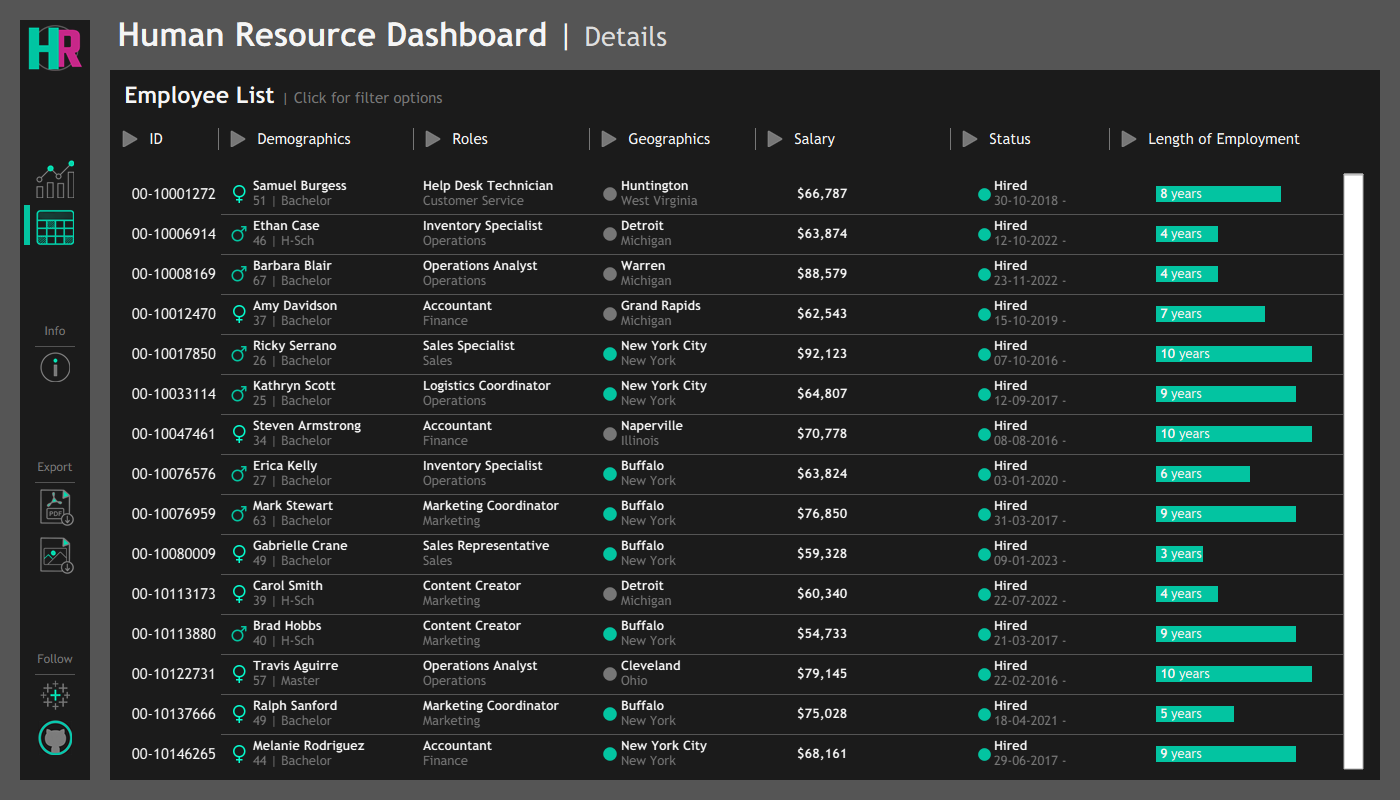

Layout of this report page (visuals, bound fields, positions):
{"tool":"tableau","page":{"name":"HR|Details","canvas":[1400,800],"ordinal":0},"visuals":[{"type":"text","box":[110,0,677,70]},{"type":"blank","box":[787,0,593,70]},{"type":"image","param":"Image/Logo.png","box":[20,20,70,55]},{"type":"text","box":[117,77,1256,41]},{"type":"blank","box":[30,85,50,75]},{"type":"filter","title":"Detailed","param":"[federated.16gnvfj1b3mwus125edxu1k4nizk].[none:Employee_ID:nk]","box":[116,118,95,53]},{"type":"dashboard-object","box":[117,118,25,42]},{"type":"text","box":[142,118,70,42]},{"type":"blank","box":[212,118,13,42]},{"type":"dashboard-object","box":[225,118,25,42]},{"type":"text","box":[250,118,157,42]},{"type":"blank","box":[407,118,13,42]},{"type":"dashboard-object","box":[420,118,25,42]},{"type":"text","box":[445,118,138,42]},{"type":"blank","box":[583,118,13,42]},{"type":"dashboard-object","box":[596,118,25,42]},{"type":"text","box":[621,118,128,42]},{"type":"blank","box":[749,118,13,42]},{"type":"dashboard-object","box":[762,118,25,42]},{"type":"text","box":[787,118,157,42]},{"type":"blank","box":[944,118,13,42]},{"type":"dashboard-object","box":[957,118,25,42]},{"type":"text","box":[982,118,121,42]},{"type":"blank","box":[1103,118,13,42]},{"type":"dashboard-object","box":[1116,118,25,42]},{"type":"text","box":[1141,118,215,42]},{"type":"dashboard-object","box":[30,160,50,38]},{"type":"filter","title":"Detailed","param":"[federated.16gnvfj1b3mwus125edxu1k4nizk].[none:Calculation_0258167344844802:nk]","box":[225,160,182,56]},{"type":"filter","title":"Detailed","param":"[federated.16gnvfj1b3mwus125edxu1k4nizk].[none:Job Title:nk]","box":[420,160,163,56]},{"type":"filter","title":"Detailed","param":"[federated.16gnvfj1b3mwus125edxu1k4nizk].[none:Calculation_0250744604237828:nk]","box":[596,160,153,56]},{"type":"filter","title":"Detailed","param":"[federated.16gnvfj1b3mwus125edxu1k4nizk].[sum:Salary:qk]","box":[762,160,182,68]},{"type":"filter","title":"Detailed","param":"[federated.16gnvfj1b3mwus125edxu1k4nizk].[none:Calculation_0724359589769216:nk]","box":[957,160,146,56]},{"type":"filter","title":"Detailed","param":"[federated.16gnvfj1b3mwus125edxu1k4nizk].[sum:Calculation_0258167353438211:qk]","box":[1116,160,240,68]},{"type":"worksheet","title":"Detailed","mark":"Shape","rows":["Employee_ID"],"cols":["Calculation_0258167342583809","Calculation_0258167342583809","Calculation_0258167342583809","Calculation_0258167342583809","Calculation_0258167342583809","Calculation_0258167353438211"],"box":[117,170,1256,603]},{"type":"blank","box":[30,198,50,10]},{"type":"blank","box":[24,205,6,40]},{"type":"dashboard-object","box":[30,208,50,38]},{"type":"filter","title":"Detailed","param":"[federated.16gnvfj1b3mwus125edxu1k4nizk].[none:Gender:nk]","box":[225,216,182,56]},{"type":"filter","title":"Detailed","param":"[federated.16gnvfj1b3mwus125edxu1k4nizk].[none:Department:nk]","box":[420,216,163,56]},{"type":"filter","title":"Detailed","param":"[federated.16gnvfj1b3mwus125edxu1k4nizk].[none:State:nk]","box":[596,216,153,56]},{"type":"filter","title":"Detailed","param":"[federated.16gnvfj1b3mwus125edxu1k4nizk].[yr:Hiredate:ok]","box":[957,216,146,56]},{"type":"blank","box":[30,246,50,75]},{"type":"filter","title":"Detailed","param":"[federated.16gnvfj1b3mwus125edxu1k4nizk].[none:Calculation_1005834275008514:nk]","box":[225,272,182,56]},{"type":"filter","title":"Detailed","param":"[federated.16gnvfj1b3mwus125edxu1k4nizk].[none:City:nk]","box":[596,272,153,56]},{"type":"filter","title":"Detailed","param":"[federated.16gnvfj1b3mwus125edxu1k4nizk].[yr:Termdate:ok]","box":[957,272,146,56]},{"type":"text","box":[90,294,1310,288]},{"type":"text","box":[30,321.1,50,20]},{"type":"filter","title":"Detailed","param":"[federated.16gnvfj1b3mwus125edxu1k4nizk].[none:Education Level:nk]","box":[225,328,182,56]},{"type":"blank","box":[30,341.1,50,11]},{"type":"dashboard-object","box":[30,352.1,50,30]},{"type":"blank","box":[30,382.1,50,75]},{"type":"text","box":[30,457.1,50,20]},{"type":"blank","box":[30,477.1,50,11]},{"type":"dashboard-object","box":[30,488.1,50,38]},{"type":"blank","box":[30,526.1,50,10]},{"type":"dashboard-object","box":[30,536.1,50,38]},{"type":"blank","box":[30,574.1,50,75]},{"type":"text","box":[30,649.2,50,20]},{"type":"blank","box":[30,669.2,50,11]},{"type":"image","param":"Image/contact-public.png","box":[30,680.2,50,30]},{"type":"blank","box":[30,710.2,50,10]},{"type":"image","param":"Image/image.png","box":[30,720.2,50,35]}]}

Visuals, with their boxes on the page's 1400x800 design canvas (x1, y1, x2, y2). These are canvas units, not pixel positions in the 1400x800 screenshot, which may show the page scaled, cropped or inside an application window:
text: pyautogui.locateOnScreen(110, 0, 787, 70)
blank: pyautogui.locateOnScreen(787, 0, 1380, 70)
image: pyautogui.locateOnScreen(20, 20, 90, 75)
text: pyautogui.locateOnScreen(117, 77, 1373, 118)
blank: pyautogui.locateOnScreen(30, 85, 80, 160)
"Detailed" filter: pyautogui.locateOnScreen(116, 118, 211, 171)
dashboard-object: pyautogui.locateOnScreen(117, 118, 142, 160)
text: pyautogui.locateOnScreen(142, 118, 212, 160)
blank: pyautogui.locateOnScreen(212, 118, 225, 160)
dashboard-object: pyautogui.locateOnScreen(225, 118, 250, 160)
text: pyautogui.locateOnScreen(250, 118, 407, 160)
blank: pyautogui.locateOnScreen(407, 118, 420, 160)
dashboard-object: pyautogui.locateOnScreen(420, 118, 445, 160)
text: pyautogui.locateOnScreen(445, 118, 583, 160)
blank: pyautogui.locateOnScreen(583, 118, 596, 160)
dashboard-object: pyautogui.locateOnScreen(596, 118, 621, 160)
text: pyautogui.locateOnScreen(621, 118, 749, 160)
blank: pyautogui.locateOnScreen(749, 118, 762, 160)
dashboard-object: pyautogui.locateOnScreen(762, 118, 787, 160)
text: pyautogui.locateOnScreen(787, 118, 944, 160)
blank: pyautogui.locateOnScreen(944, 118, 957, 160)
dashboard-object: pyautogui.locateOnScreen(957, 118, 982, 160)
text: pyautogui.locateOnScreen(982, 118, 1103, 160)
blank: pyautogui.locateOnScreen(1103, 118, 1116, 160)
dashboard-object: pyautogui.locateOnScreen(1116, 118, 1141, 160)
text: pyautogui.locateOnScreen(1141, 118, 1356, 160)
dashboard-object: pyautogui.locateOnScreen(30, 160, 80, 198)
"Detailed" filter: pyautogui.locateOnScreen(225, 160, 407, 216)
"Detailed" filter: pyautogui.locateOnScreen(420, 160, 583, 216)
"Detailed" filter: pyautogui.locateOnScreen(596, 160, 749, 216)
"Detailed" filter: pyautogui.locateOnScreen(762, 160, 944, 228)
"Detailed" filter: pyautogui.locateOnScreen(957, 160, 1103, 216)
"Detailed" filter: pyautogui.locateOnScreen(1116, 160, 1356, 228)
"Detailed" worksheet (Shape marks): pyautogui.locateOnScreen(117, 170, 1373, 773)
blank: pyautogui.locateOnScreen(30, 198, 80, 208)
blank: pyautogui.locateOnScreen(24, 205, 30, 245)
dashboard-object: pyautogui.locateOnScreen(30, 208, 80, 246)
"Detailed" filter: pyautogui.locateOnScreen(225, 216, 407, 272)
"Detailed" filter: pyautogui.locateOnScreen(420, 216, 583, 272)
"Detailed" filter: pyautogui.locateOnScreen(596, 216, 749, 272)
"Detailed" filter: pyautogui.locateOnScreen(957, 216, 1103, 272)
blank: pyautogui.locateOnScreen(30, 246, 80, 321)
"Detailed" filter: pyautogui.locateOnScreen(225, 272, 407, 328)
"Detailed" filter: pyautogui.locateOnScreen(596, 272, 749, 328)
"Detailed" filter: pyautogui.locateOnScreen(957, 272, 1103, 328)
text: pyautogui.locateOnScreen(90, 294, 1400, 582)
text: pyautogui.locateOnScreen(30, 321, 80, 341)
"Detailed" filter: pyautogui.locateOnScreen(225, 328, 407, 384)
blank: pyautogui.locateOnScreen(30, 341, 80, 352)
dashboard-object: pyautogui.locateOnScreen(30, 352, 80, 382)
blank: pyautogui.locateOnScreen(30, 382, 80, 457)
text: pyautogui.locateOnScreen(30, 457, 80, 477)
blank: pyautogui.locateOnScreen(30, 477, 80, 488)
dashboard-object: pyautogui.locateOnScreen(30, 488, 80, 526)
blank: pyautogui.locateOnScreen(30, 526, 80, 536)
dashboard-object: pyautogui.locateOnScreen(30, 536, 80, 574)
blank: pyautogui.locateOnScreen(30, 574, 80, 649)
text: pyautogui.locateOnScreen(30, 649, 80, 669)
blank: pyautogui.locateOnScreen(30, 669, 80, 680)
image: pyautogui.locateOnScreen(30, 680, 80, 710)
blank: pyautogui.locateOnScreen(30, 710, 80, 720)
image: pyautogui.locateOnScreen(30, 720, 80, 755)
